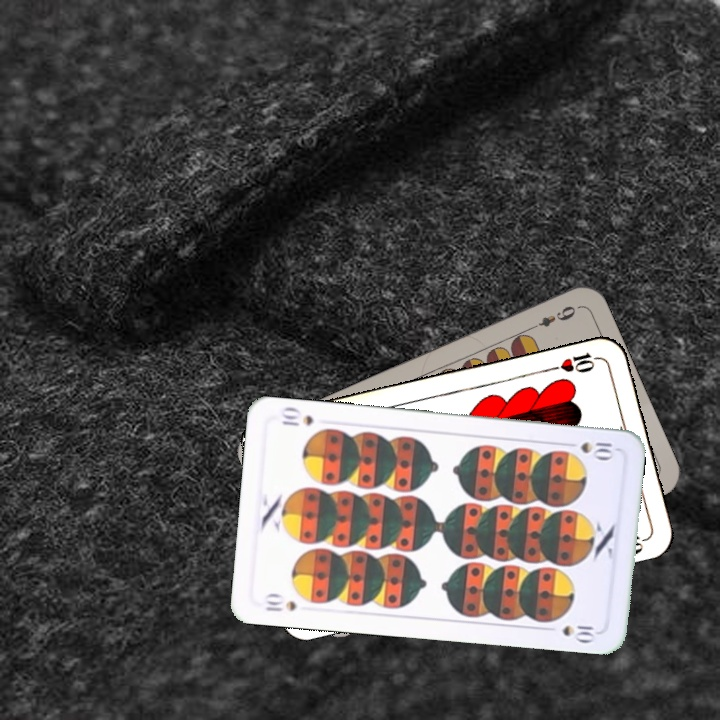E9: (525, 301, 581, 333)
H10: (545, 348, 604, 375)
S10: (560, 438, 615, 461), (261, 590, 299, 614)
